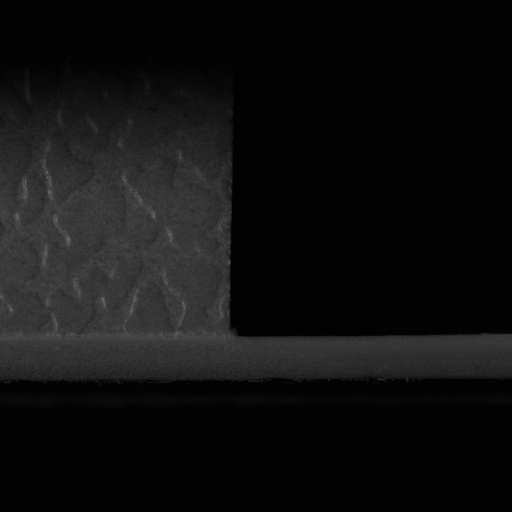changdai: (223, 331, 511, 384)
